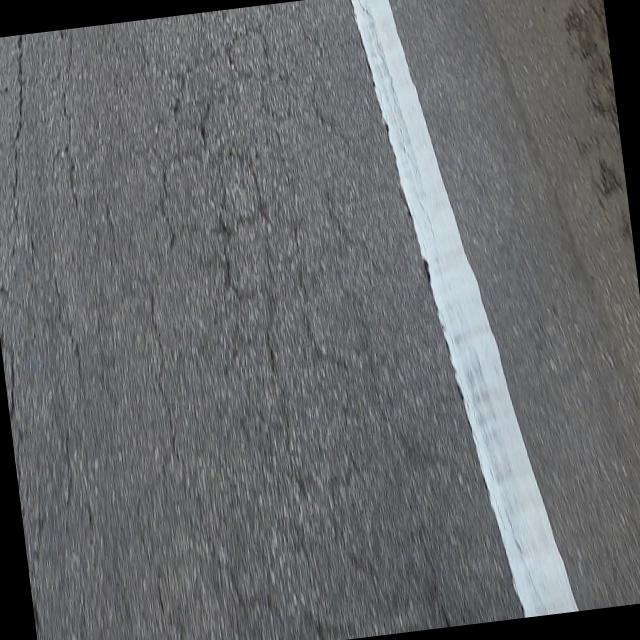Retak-Buaya: (0, 4, 456, 640)
Retak-Memanjang: (346, 0, 525, 618)
